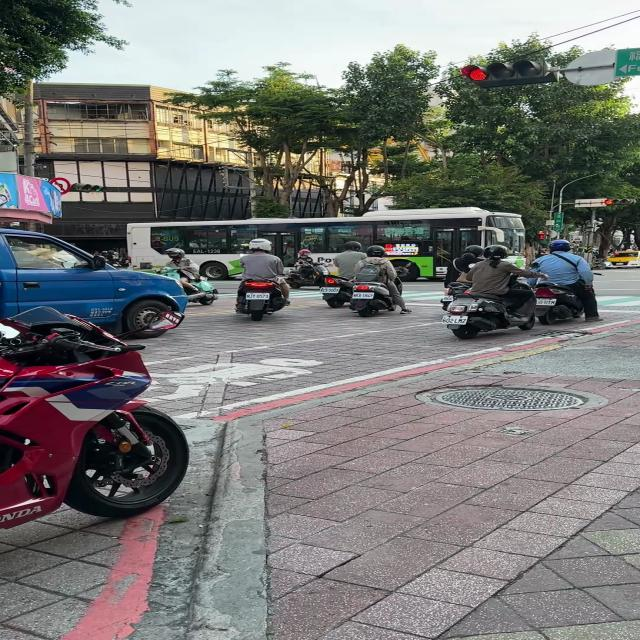bus: (126, 208, 525, 279)
car: (604, 250, 640, 268)
crosswalk: (404, 290, 445, 301), (289, 291, 322, 299)
motocycle: (0, 306, 188, 529), (443, 291, 536, 339), (236, 280, 287, 321), (534, 282, 582, 324), (349, 282, 395, 316), (320, 275, 353, 308), (597, 295, 640, 307)
trunk: (0, 229, 188, 338)
